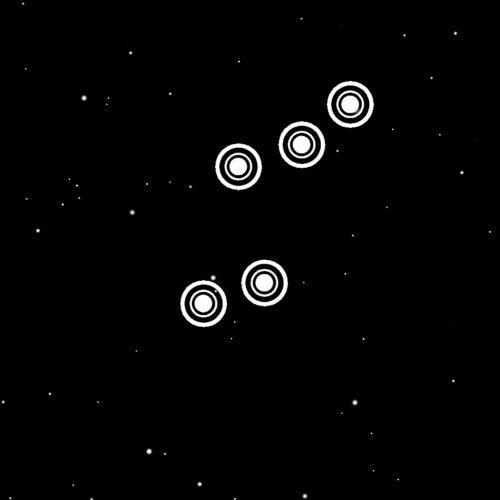lyra: (166, 56, 383, 343)
